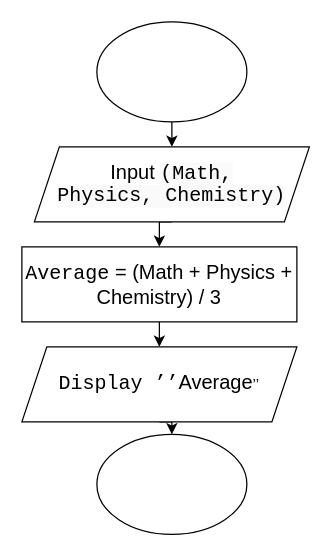
This 331x556 diagram has some shape labels left out. Each missing label, with the box of its shape:
Begin: (96, 21, 247, 122)
End: (96, 433, 247, 534)
